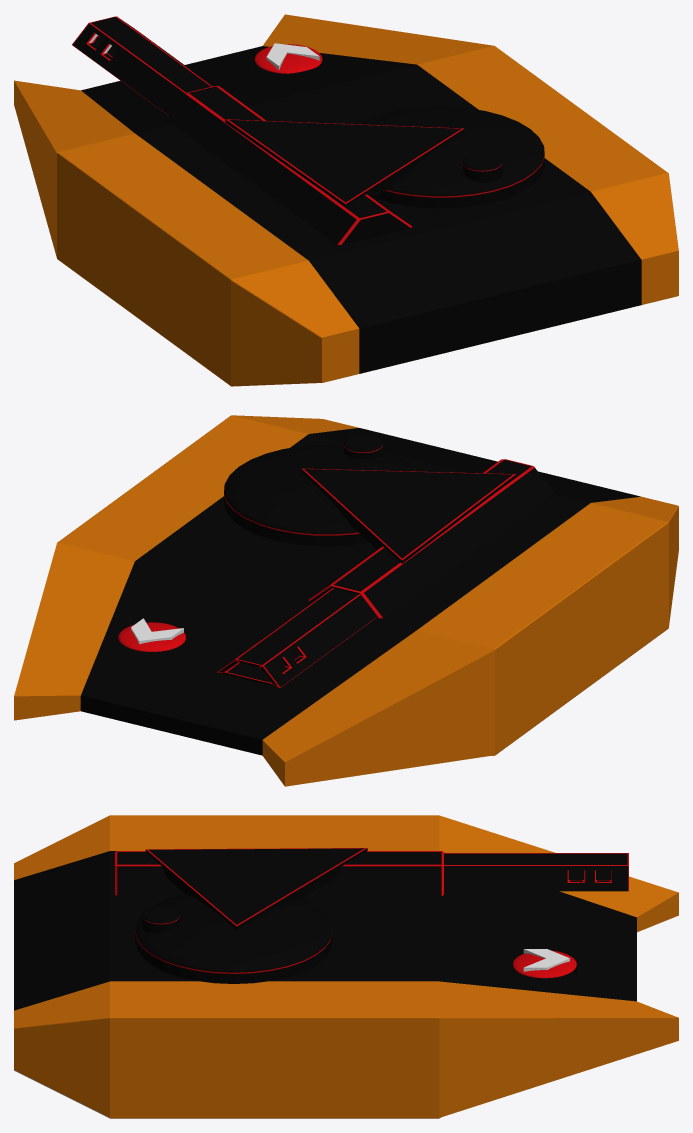
File: TronTankBody.fbx
3 renders of one model, top to bottom at view 1: azimuth 30°, elevation 25°; view 2: azimuth 150°, elevation 25°; view 3: azimuth 270°, elevation 25°, orthographic. The views are drawn at different scales.
Parts seen in each view (by area): view 1: body; view 2: body; view 3: body.
Part boxes in pixels (x1,y1,x2,y2): body: [14, 14, 678, 386]; body: [14, 415, 678, 786]; body: [14, 815, 678, 1118].
Bounding box in the file's own units: 316 × 95.47 × 438.
